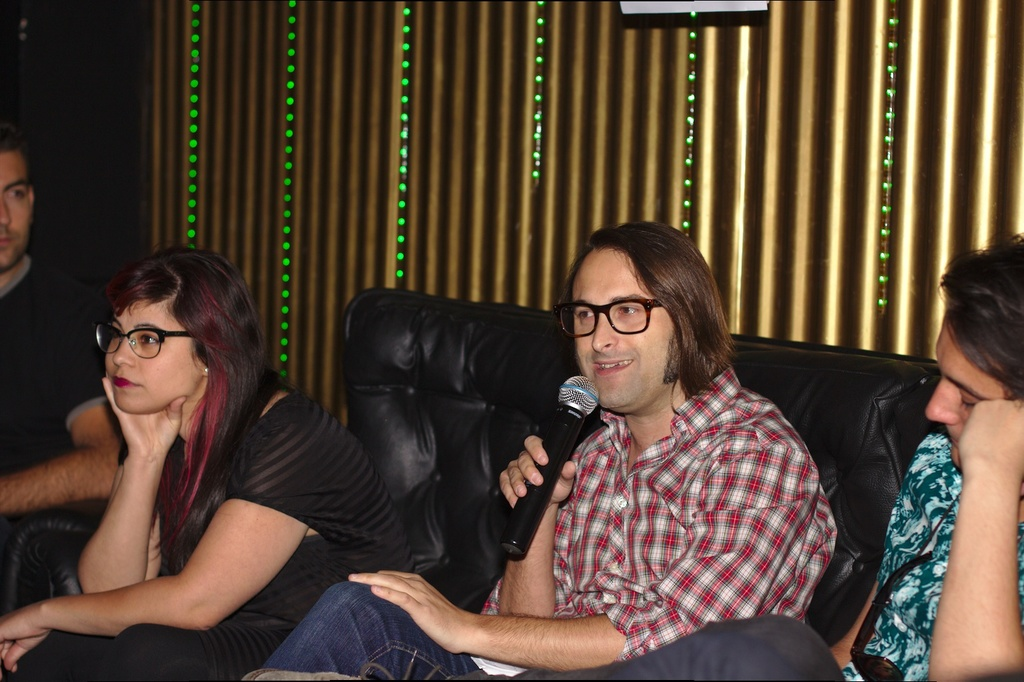Human_hand: (356, 578, 479, 651), (101, 374, 188, 463), (494, 433, 574, 514), (954, 398, 1023, 475), (0, 603, 49, 676)
